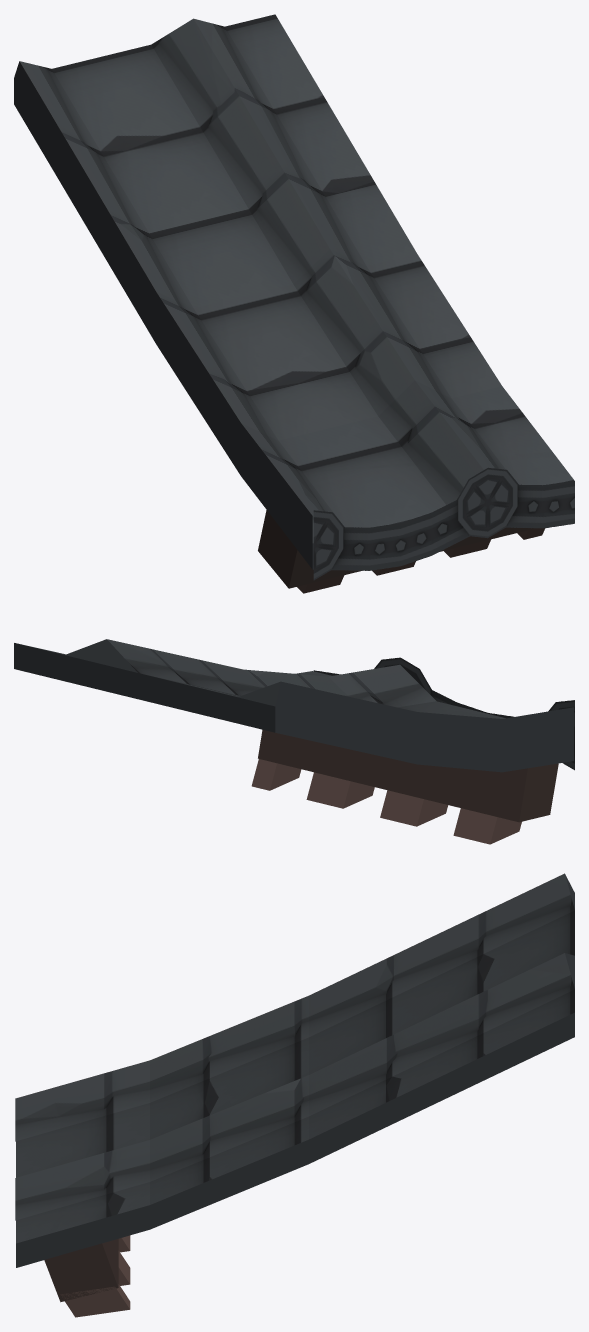
The model's file is SM_Bld_Roof_Edge_Half_01.fbx.
The picture shows the model from 3 angles, top to bottom: view 1: azimuth 30°, elevation 25°; view 2: azimuth 150°, elevation 25°; view 3: azimuth 270°, elevation 25°; orthographic projection. The views are drawn at different scales.
Visible parts, largest first — view 1: SM_Bld_Roof_Edge_Half_01; view 2: SM_Bld_Roof_Edge_Half_01; view 3: SM_Bld_Roof_Edge_Half_01.
Part boxes in pixels (x1,y1,x2,y2): SM_Bld_Roof_Edge_Half_01: [14, 14, 574, 593]; SM_Bld_Roof_Edge_Half_01: [14, 639, 574, 844]; SM_Bld_Roof_Edge_Half_01: [15, 873, 574, 1317].
Bounding box in the file's own units: 125 × 159 × 248.
